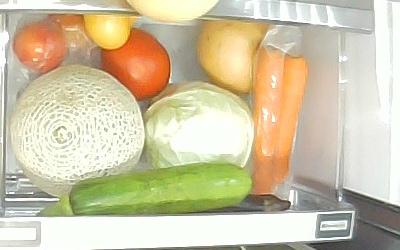cabbage: (144, 81, 255, 168)
carrot_vinyl: (254, 48, 286, 195), (274, 56, 306, 182)
eggplant: (204, 194, 292, 213)
melon: (10, 64, 145, 198)
pear: (196, 19, 273, 97)
prune_vinyl: (11, 22, 69, 74), (48, 14, 91, 50)
tangerine: (84, 14, 132, 50)
tomato: (99, 28, 171, 101)
zucchini: (37, 162, 252, 217)
